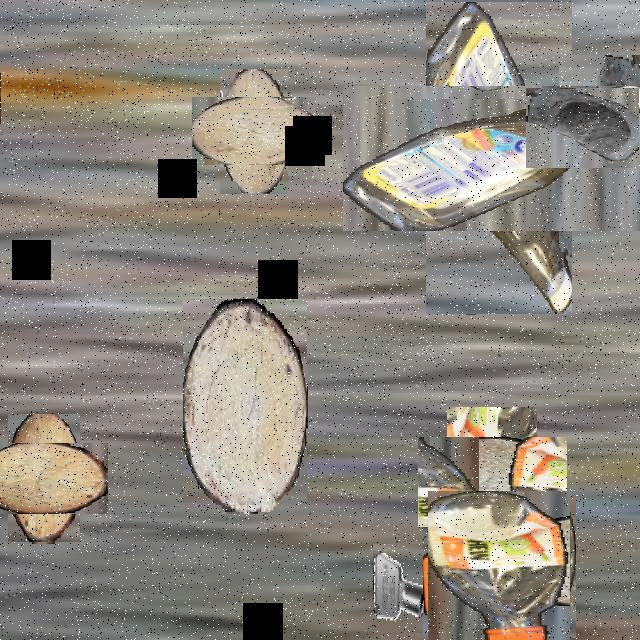glass: (542, 71, 640, 184)
metal: (373, 544, 423, 633), (274, 108, 312, 176)
plastic: (384, 43, 614, 273), (425, 493, 573, 640)
wood: (183, 299, 307, 512), (432, 422, 552, 542), (0, 428, 94, 528), (206, 83, 302, 180)
